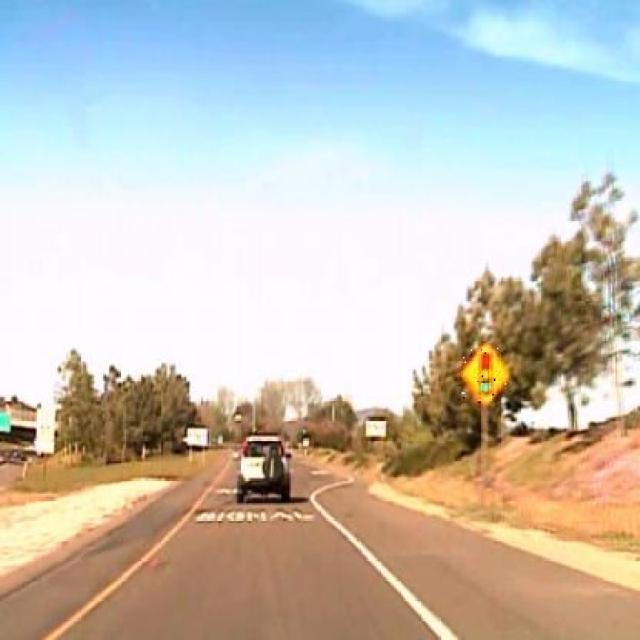signalAhead: (458, 342, 509, 405)
